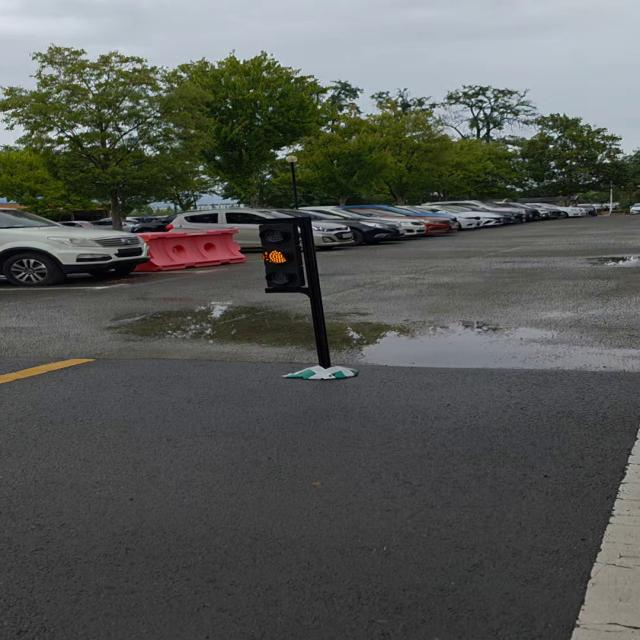yellow: (264, 220, 312, 293)
